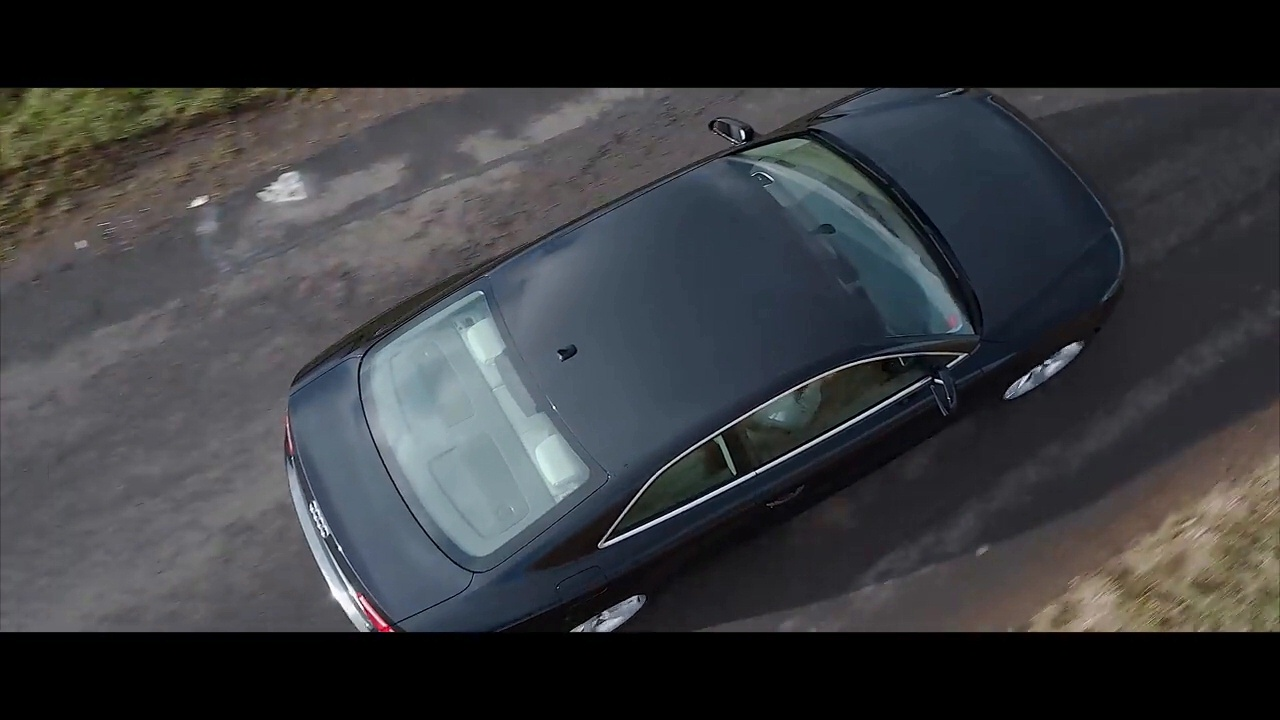araba: (281, 84, 1130, 633)
